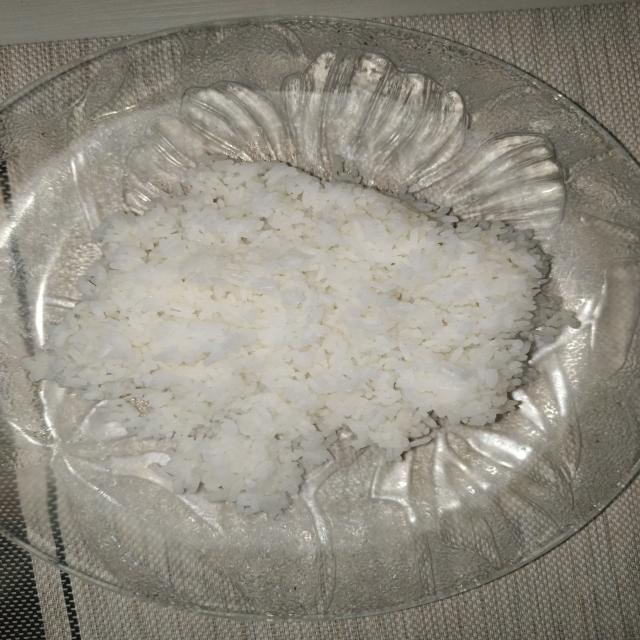Chicken -Chicken Inasal-: (96, 152, 501, 484)
